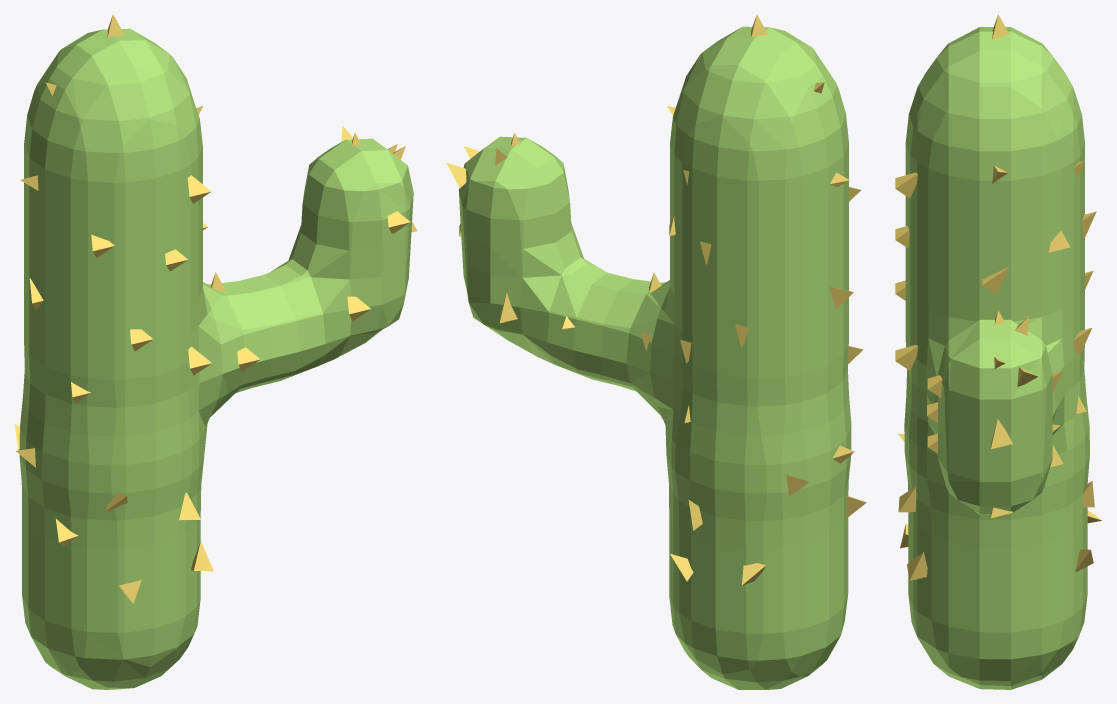
Rendered from cactus.fbx.
The picture shows the model from 3 angles, left to right: view 1: azimuth 30°, elevation 25°; view 2: azimuth 150°, elevation 25°; view 3: azimuth 270°, elevation 25°; orthographic projection.
Visible parts, largest first — view 1: Cone; view 2: Cone; view 3: Cone.
Part boxes in pixels (x1=…): Cone: x1=14, y1=14, x2=417, y2=689; Cone: x1=446, y1=14, x2=866, y2=689; Cone: x1=895, y1=14, x2=1101, y2=689.
Bounding box in the file's own units: 592 × 947 × 266.
